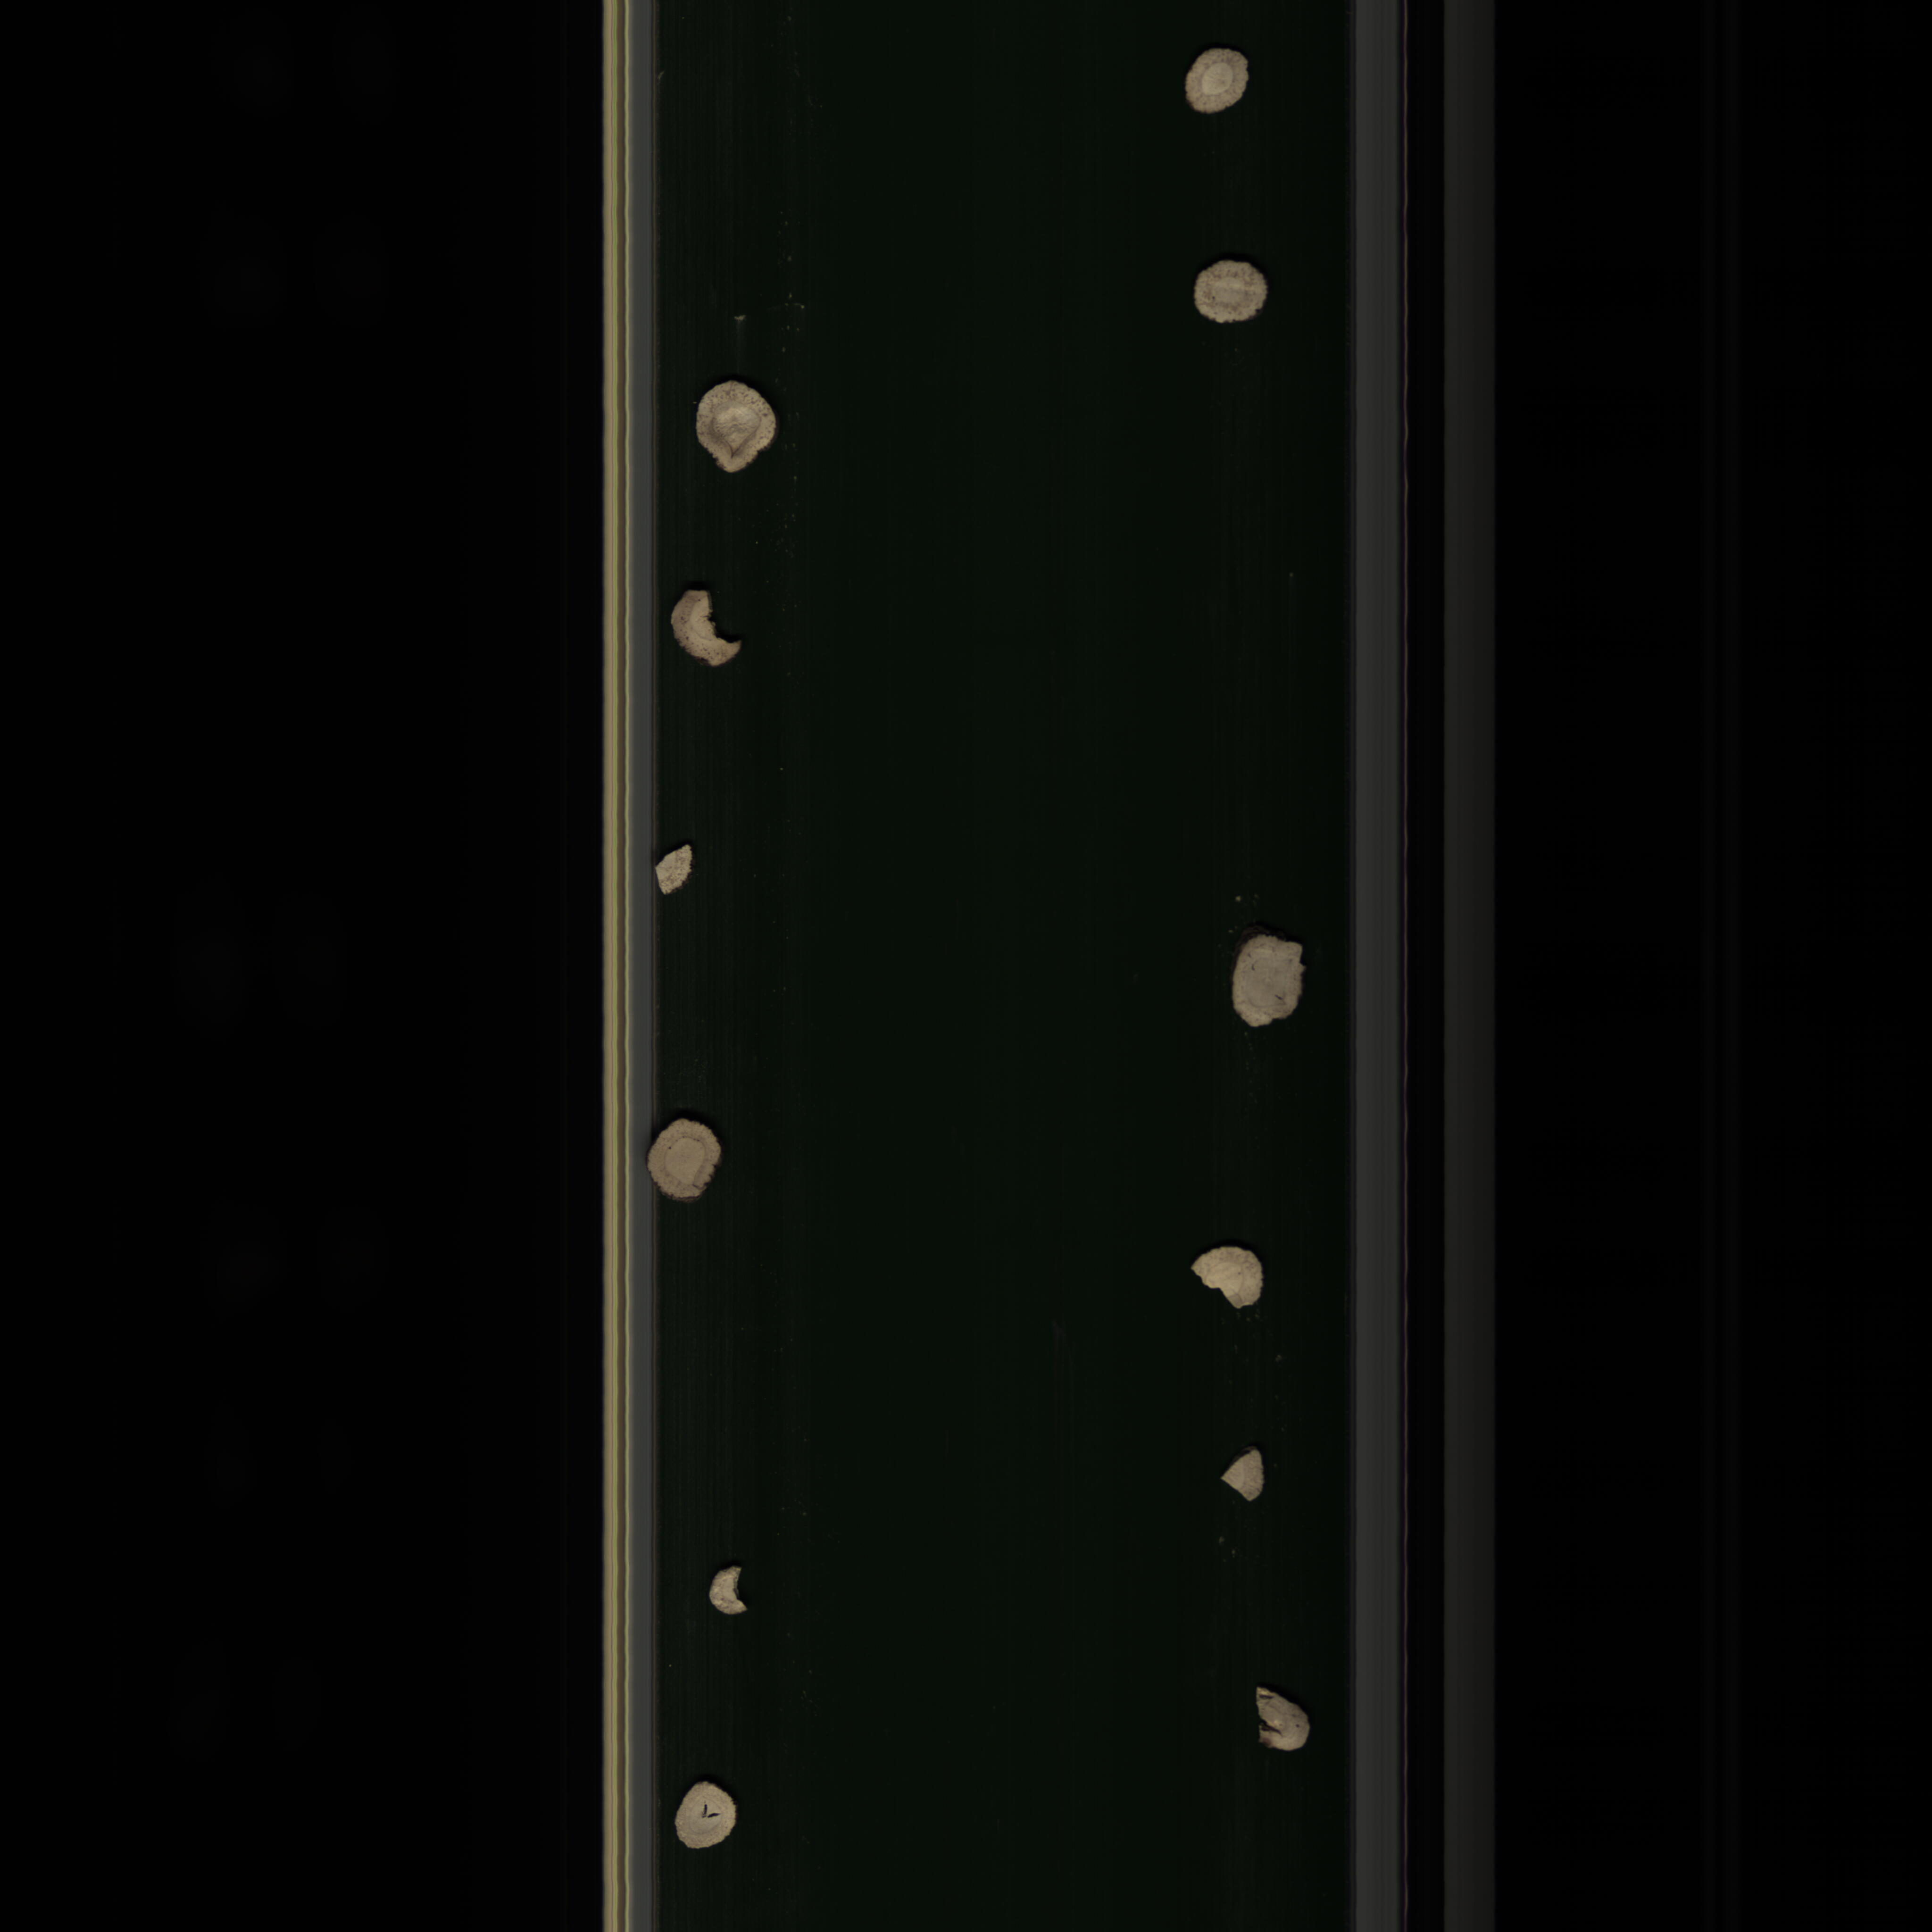debris: (669, 584, 748, 678), (1184, 1244, 1281, 1315), (1249, 1681, 1320, 1766), (1215, 1437, 1274, 1511), (701, 1564, 755, 1626), (649, 840, 702, 902)
distortion: (1221, 925, 1313, 1042), (686, 380, 784, 479)
hole: (669, 1775, 743, 1859)
